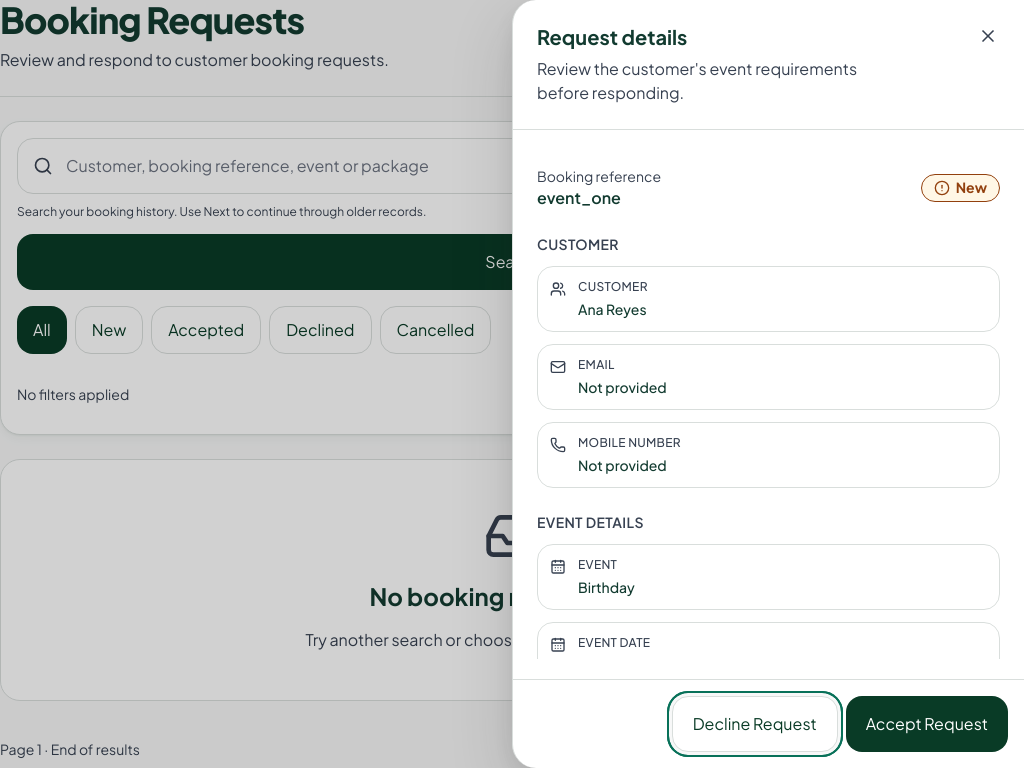
Test: provider request acceptance copy › shows frozen eligibility in the drawer and acceptance confirmation: pending full-payment add-on
The width and height of the screenshot is (1024, 768).
Step 1. Click the button "Accept Request" → [927, 724], box [846, 696, 1008, 752]
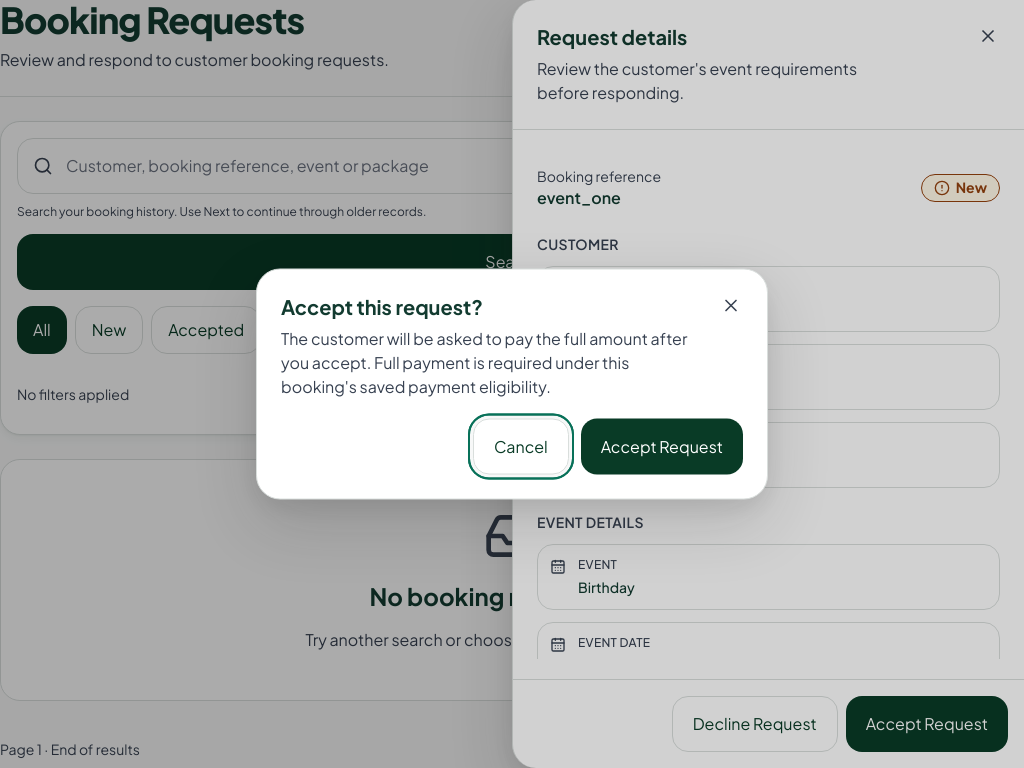
Expected: the dialog "Accept this request?" shows "full amount", [281, 328, 687, 396]
